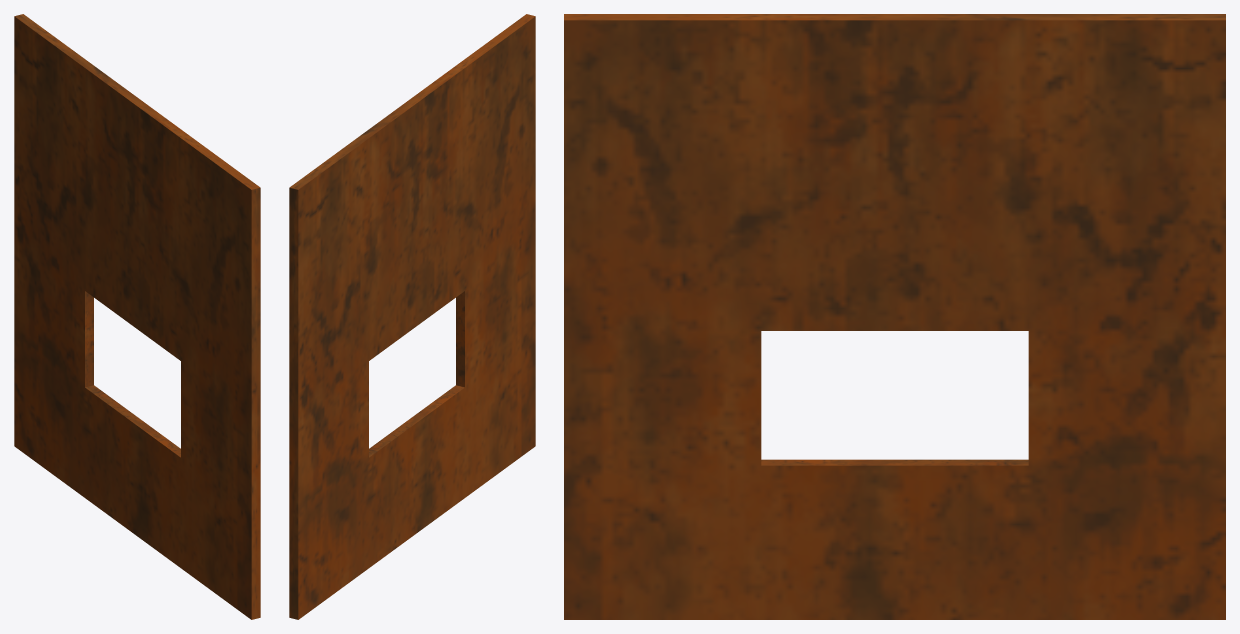
File: WindowWallWood_SM.fbx
The picture shows the model from 3 angles, left to right: view 1: azimuth 30°, elevation 25°; view 2: azimuth 150°, elevation 25°; view 3: azimuth 270°, elevation 25°; orthographic projection. The views are drawn at different scales.
Parts seen in each view (by area): view 1: WindowWall; view 2: WindowWall; view 3: WindowWall.
Part boxes in pixels (box(x1,y1,x2,y2)): WindowWall: box(14, 14, 260, 619); WindowWall: box(289, 14, 535, 619); WindowWall: box(564, 14, 1225, 619).
Size of the model in its own units: 10 by 450 by 450.
Materials: 1 (1 with a texture image).
